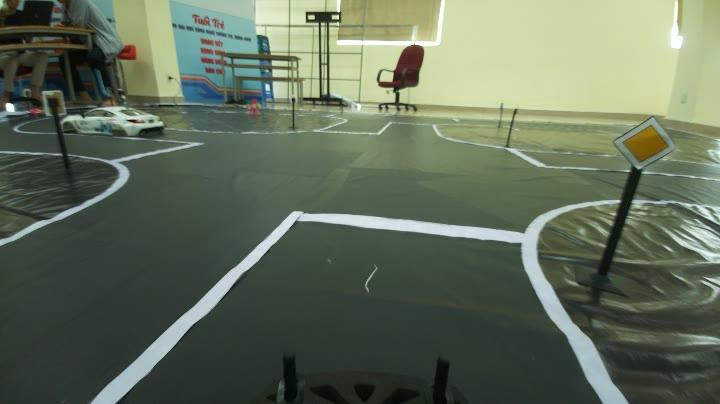priority: (612, 111, 675, 176)
